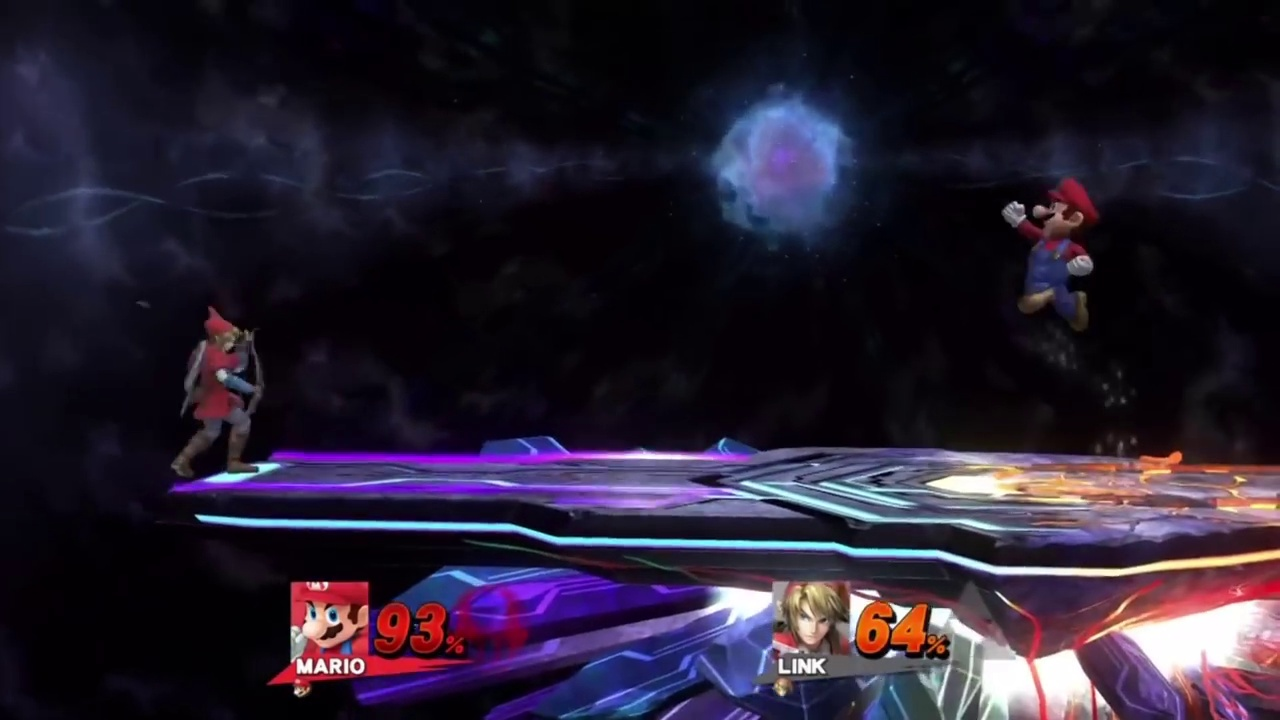Mario: (998, 178, 1101, 338)
